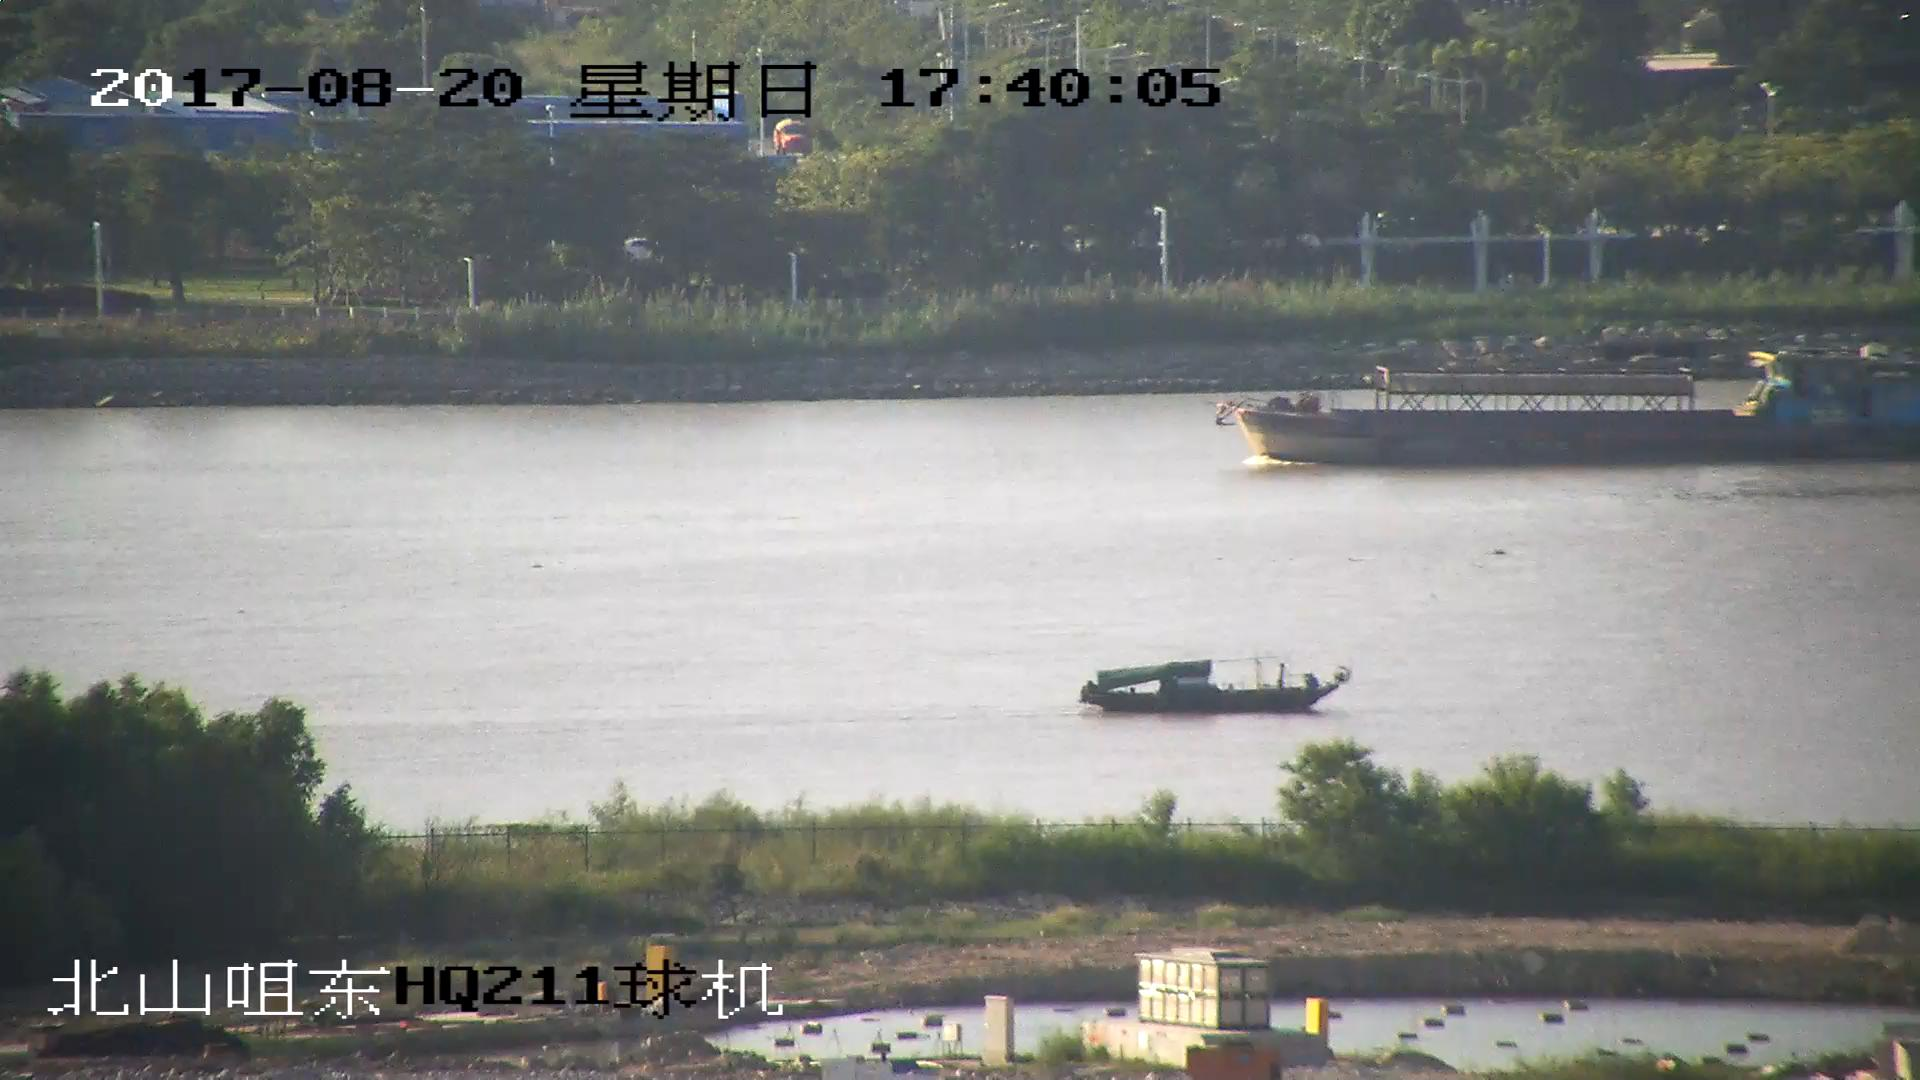fishing boat: (1214, 351, 1920, 473), (1081, 653, 1348, 714)
